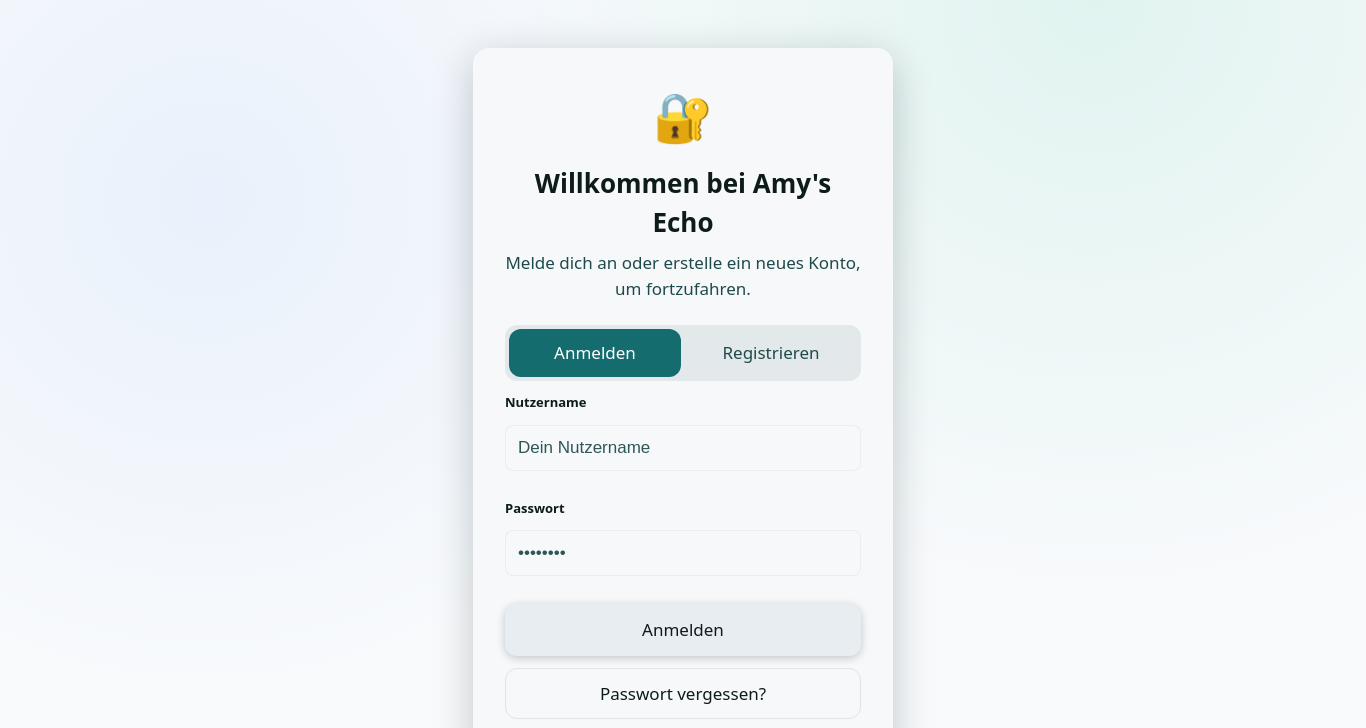
Test: LoginScreen › wechselt in den Reset-Flow und fordert eine E-Mail an
Click the button "Passwort vergessen?": (683, 693) [505,668,861,719]
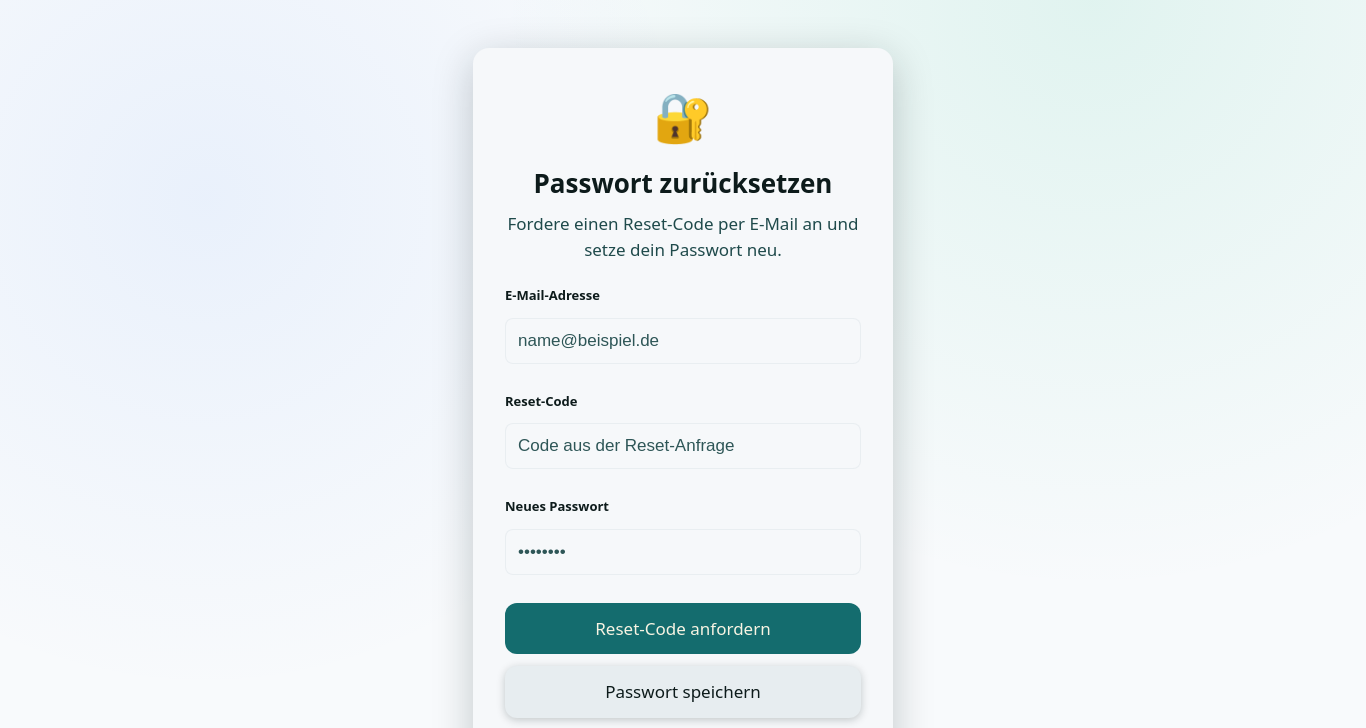
Result: the heading "Passwort zurücksetzen" is shown at [534,165,832,201]
In the field labelled "E-Mail-Adresse": (683, 340) [505,318,861,364], type "amy@example.org"
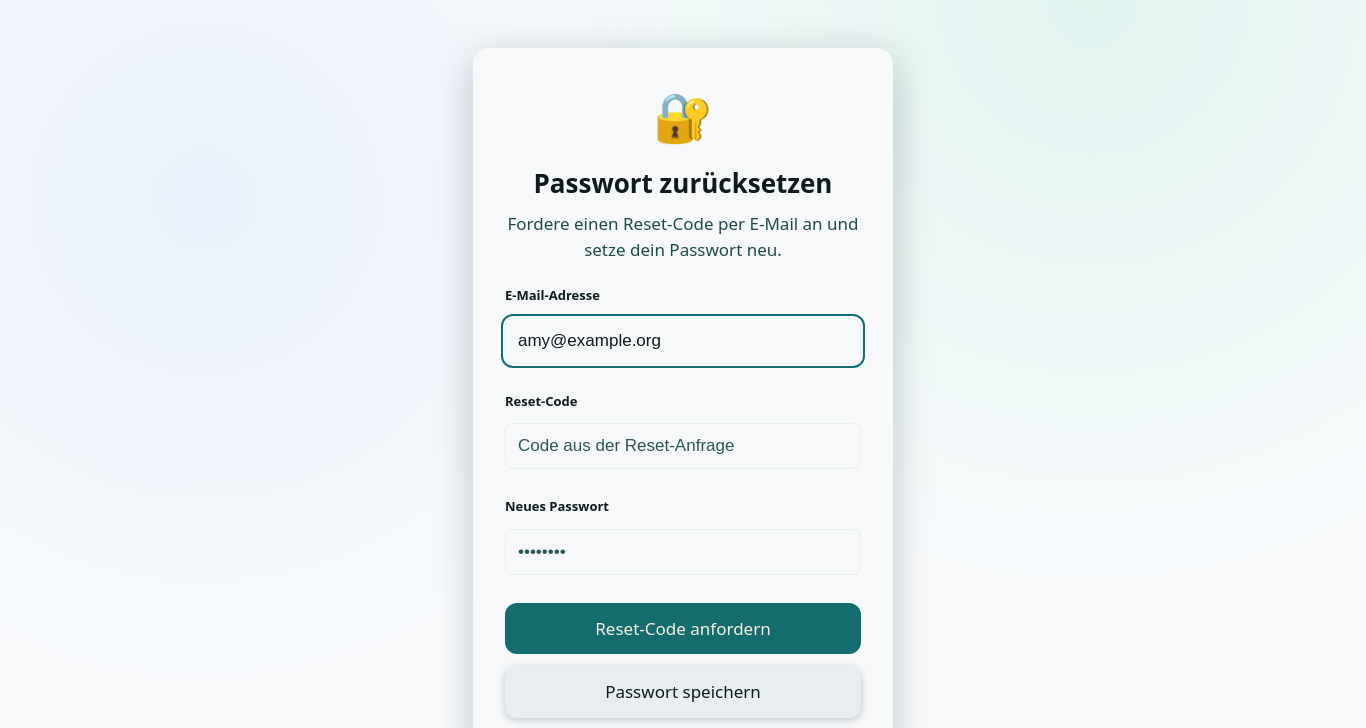
Click the button "Reset-Code anfordern": (683, 628) [505,602,861,654]
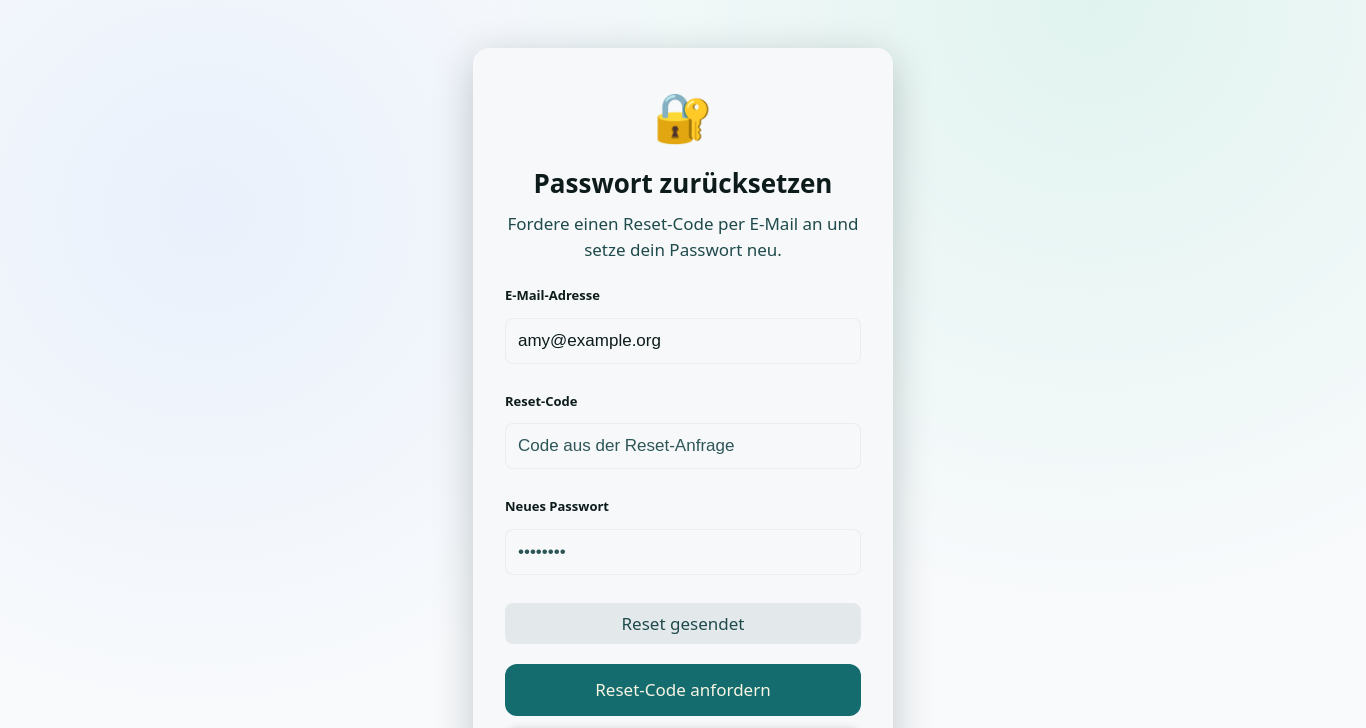
Result: the text "Reset gesendet" is shown at [505,602,861,644]
